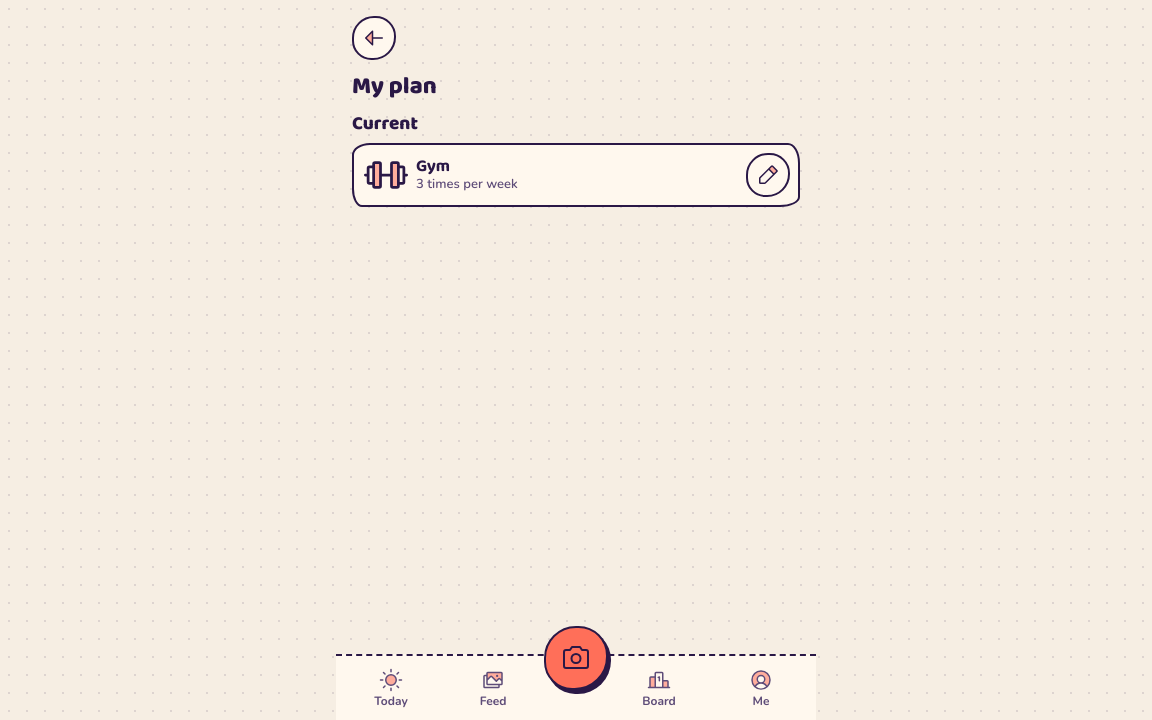
Scenario: My plan › Edit on a commitment opens the edit sheet; End shows "ends Sun" in My plan
Click the button named "Edit Gym" at coordinates (768, 175), box [746,153,790,197]
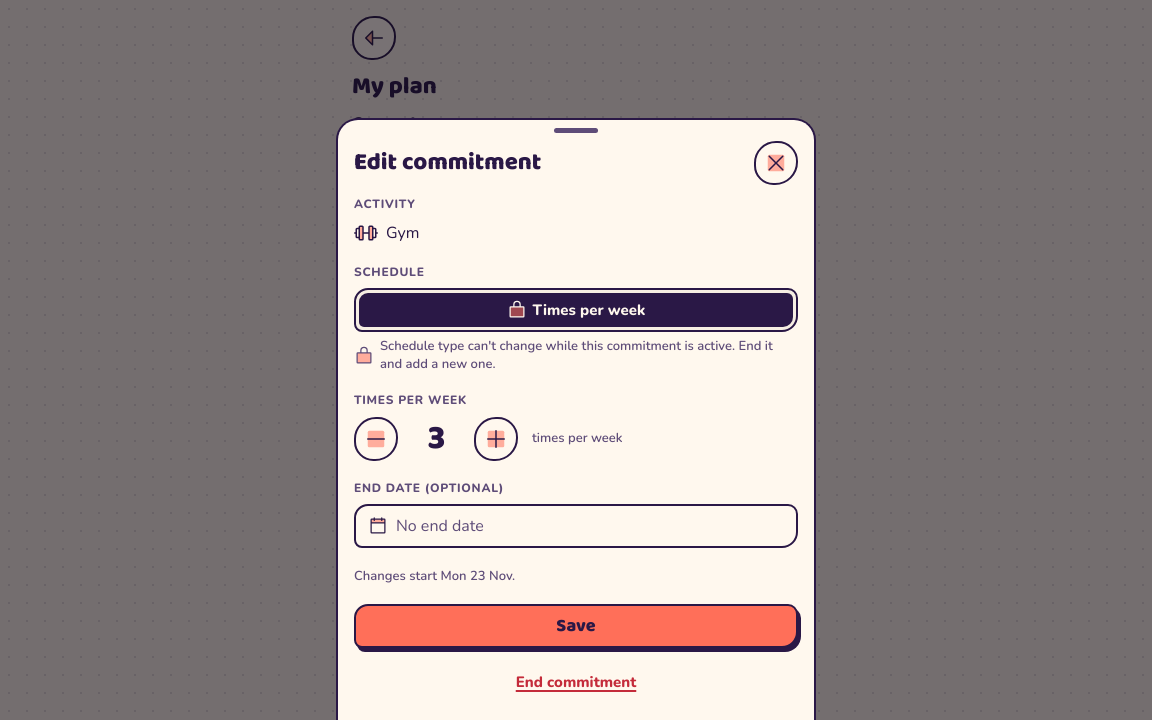
Click the button "End commitment" at coordinates (576, 682), box [512,660,640,704]
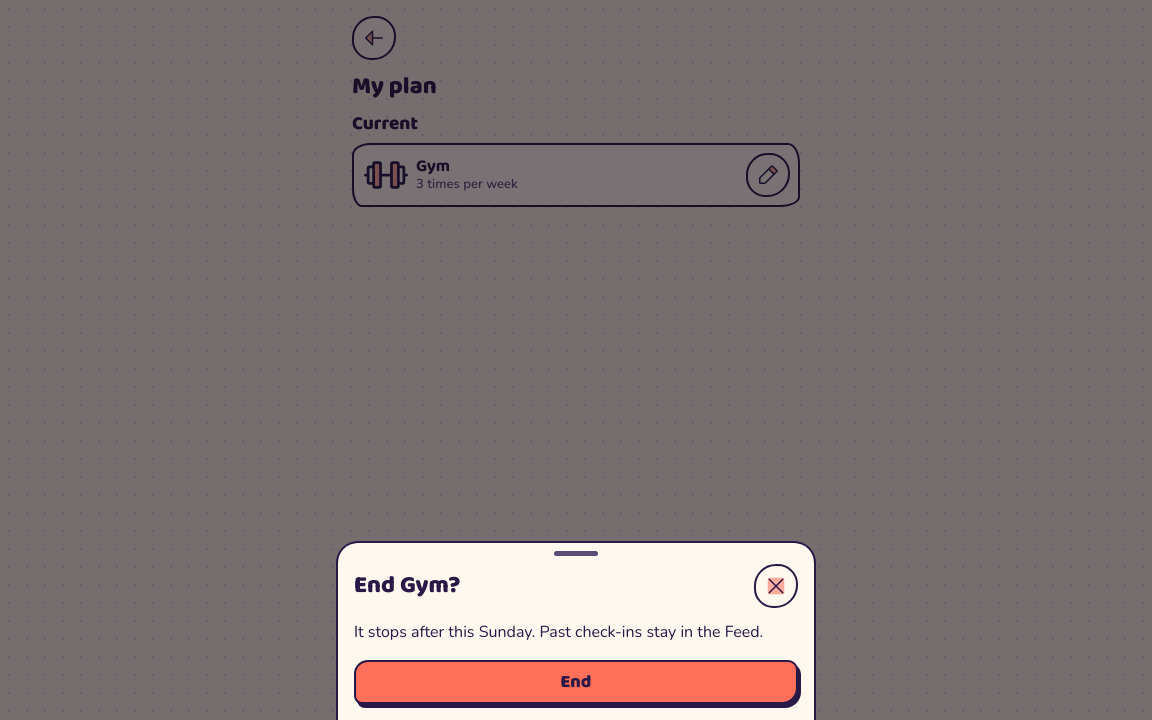
Click the button "End" at coordinates (576, 682), box [354,660,798,704]
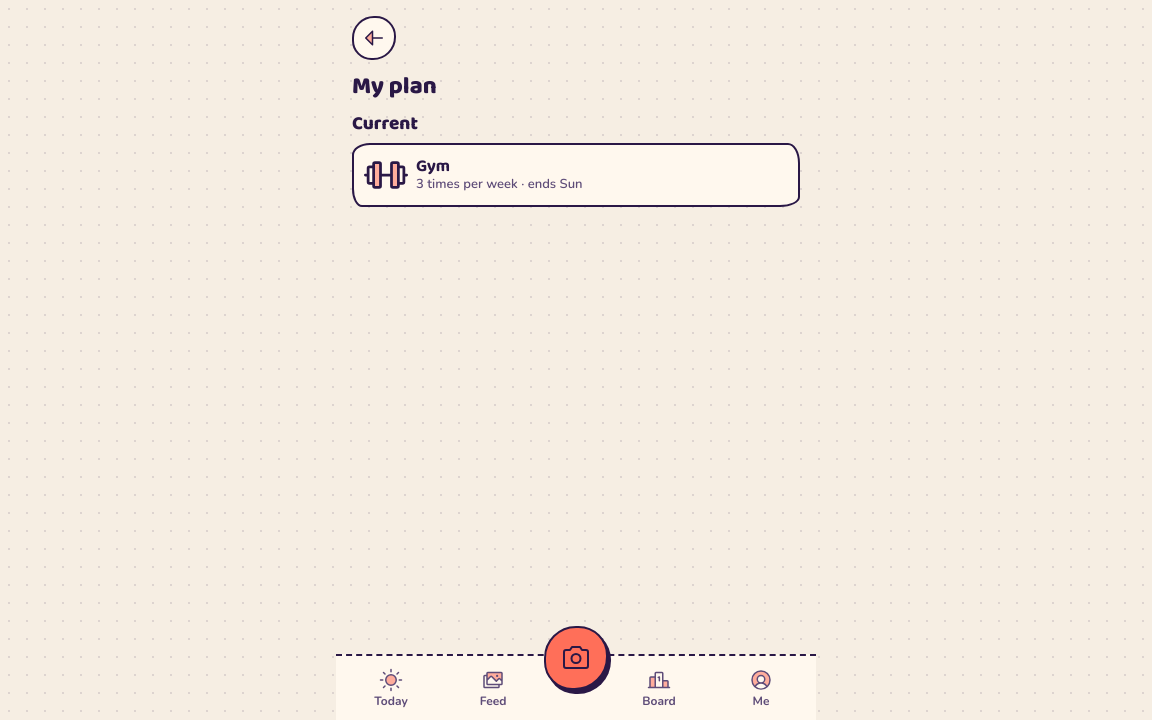
expect the dialog is gone: met
expect the text "3 times per week · ends Sun" is shown: met, box [416,175,582,193]
